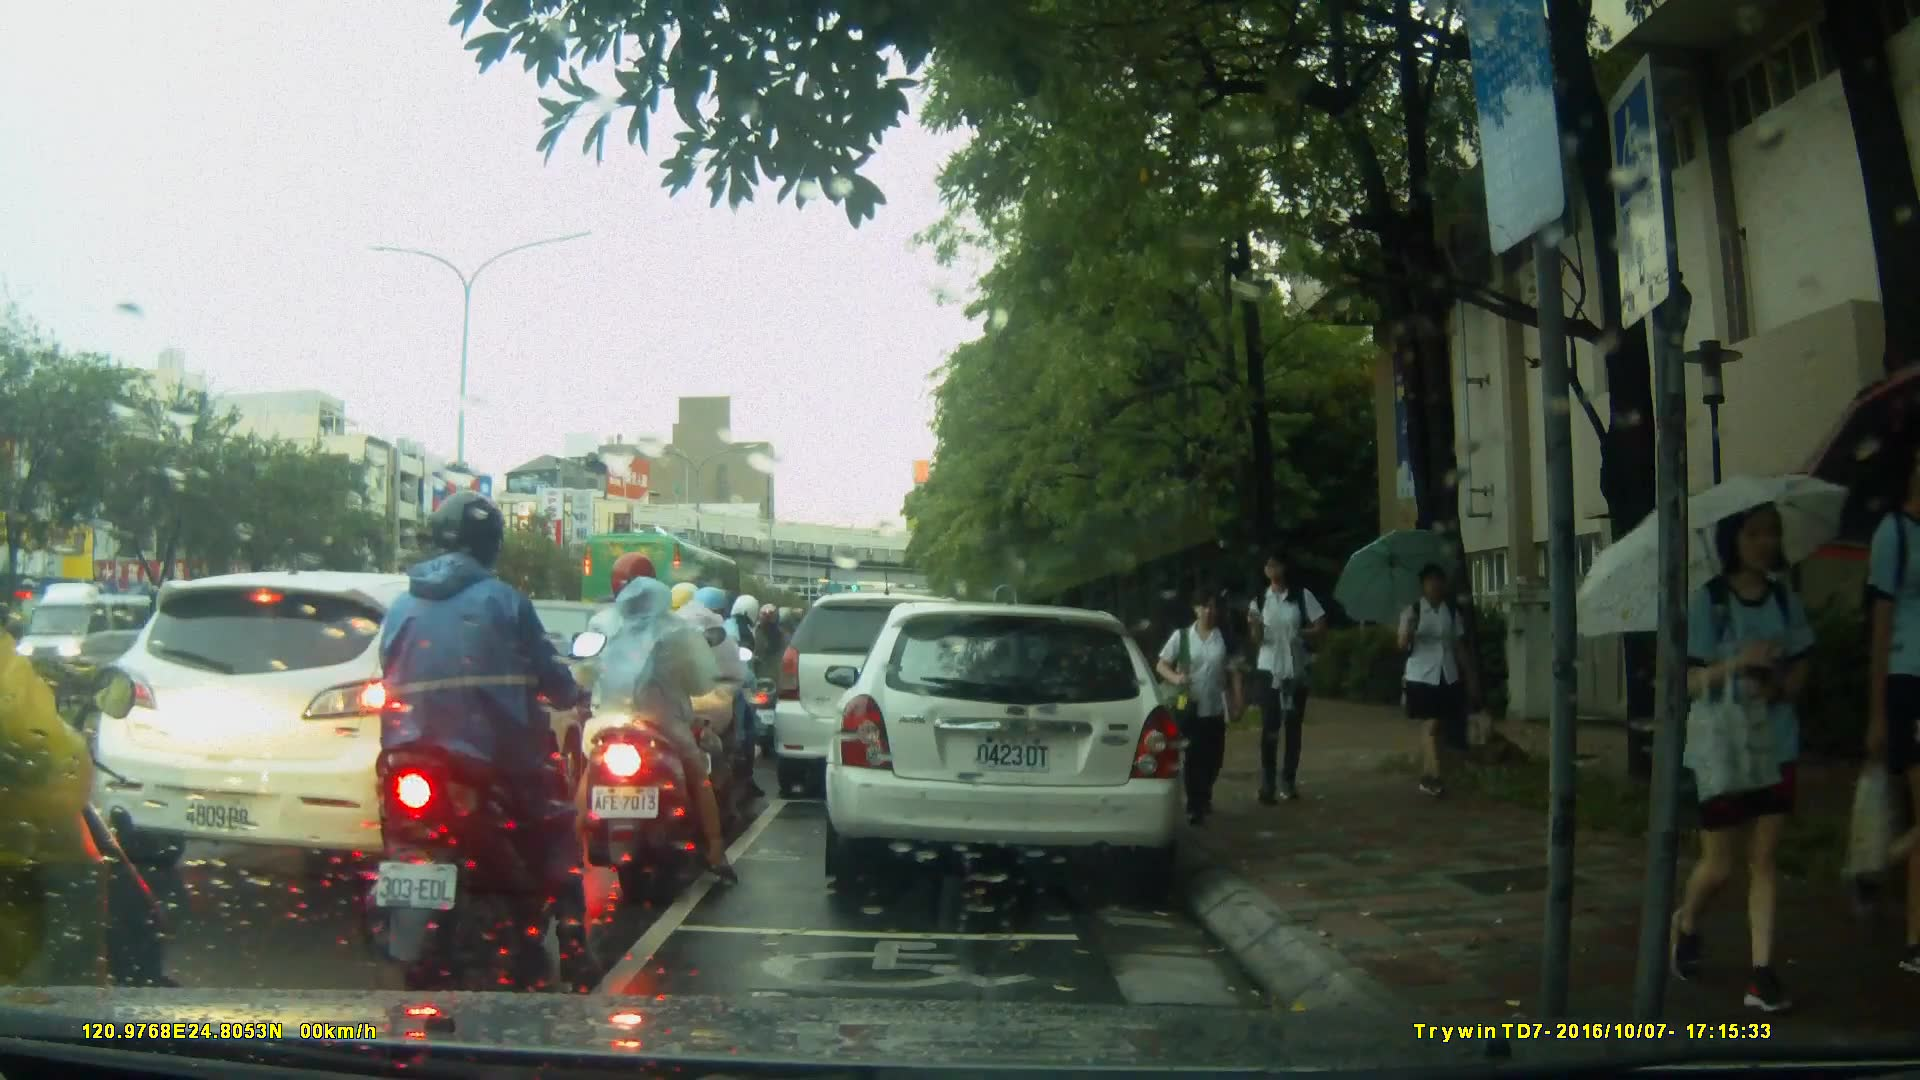pedestrian: (1633, 477, 1786, 1003), (1841, 436, 1920, 991), (1234, 548, 1332, 803), (1380, 555, 1477, 801), (1153, 577, 1248, 812)
rider: (367, 486, 600, 989), (1, 455, 181, 1080), (556, 551, 746, 910), (638, 577, 765, 829), (688, 594, 774, 780)
vehicle: (93, 569, 617, 883), (822, 604, 1187, 883), (774, 595, 995, 802), (588, 532, 760, 648), (30, 593, 158, 702)
